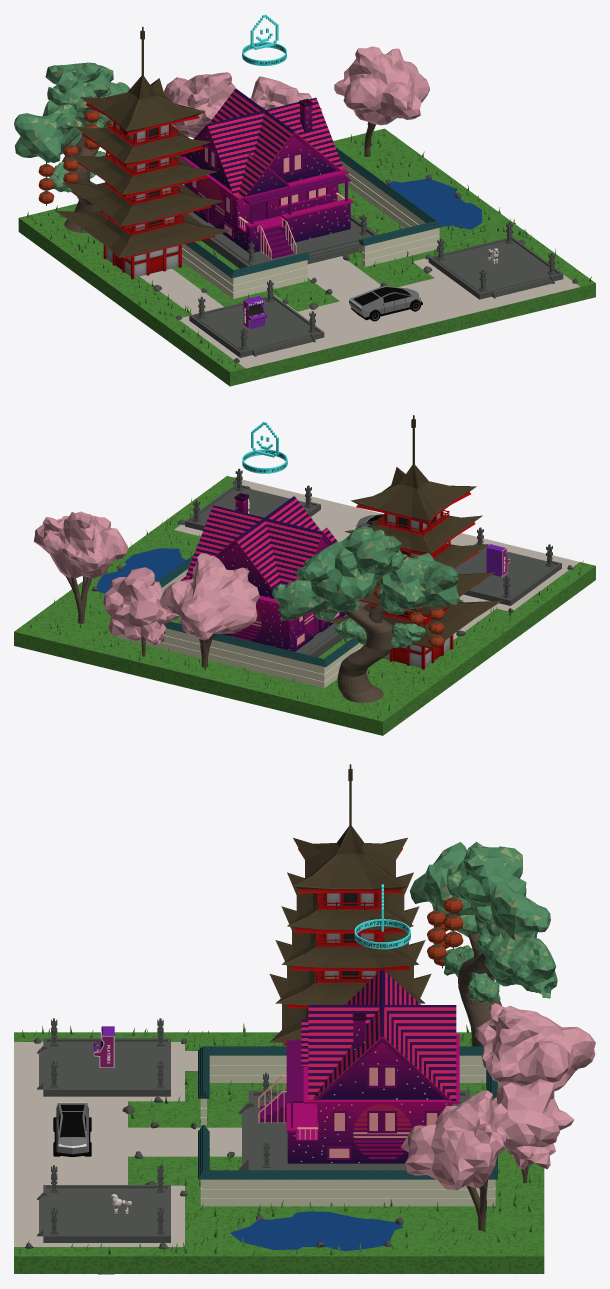
The picture shows the model from 3 angles, top to bottom: view 1: azimuth 30°, elevation 25°; view 2: azimuth 150°, elevation 25°; view 3: azimuth 270°, elevation 25°; orthographic projection. The views are drawn at different scales.
Visible parts, largest first — view 1: Cube.005, Cube.156, VEHICLES_CYBERTRUCK, TYPE_PREMIUM, OBJRANDOM_ARCADE; view 2: Cube.005, Cube.156, TYPE_PREMIUM, OBJRANDOM_ARCADE; view 3: Cube.005, Cube.156, VEHICLES_CYBERTRUCK, TYPE_PREMIUM, OBJRANDOM_ARCADE.
Part boxes in pixels (x1,y1,x2,y2): Cube.005: (14,26,595,386); Cube.156: (178,88,353,259); VEHICLES_CYBERTRUCK: (349,285,422,321); TYPE_PREMIUM: (242,14,286,65); OBJRANDOM_ARCADE: (243,295,266,329); Cube.005: (14,415,595,735); Cube.156: (181,493,345,651); TYPE_PREMIUM: (242,421,287,473); OBJRANDOM_ARCADE: (486,544,510,576); Cube.005: (14,764,595,1273); Cube.156: (258,969,459,1163); VEHICLES_CYBERTRUCK: (53,1102,91,1157); TYPE_PREMIUM: (354,884,410,949); OBJRANDOM_ARCADE: (93,1026,114,1067).
Size of the model in its own units: 4528 by 2663 by 4389.
Materials: 42 (8 with a texture image).
